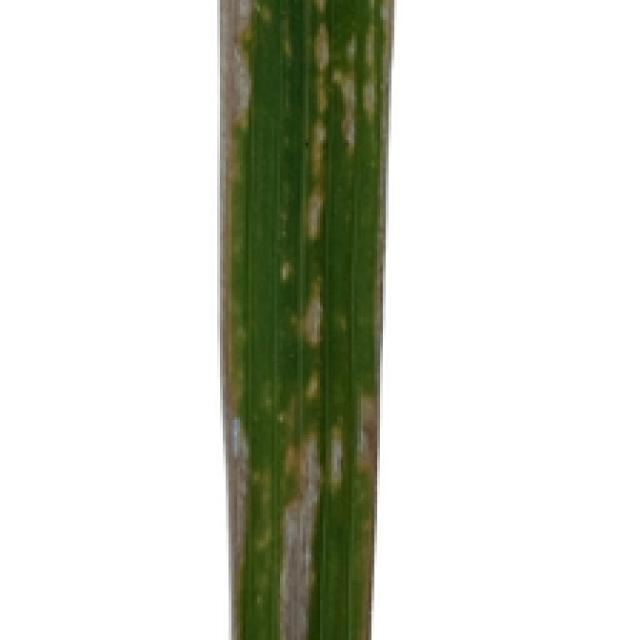Rice___Bacterial_Leaf_Blight: (218, 0, 399, 637)
